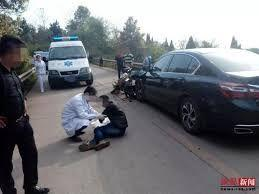Fall-Detected: (78, 89, 129, 155)
